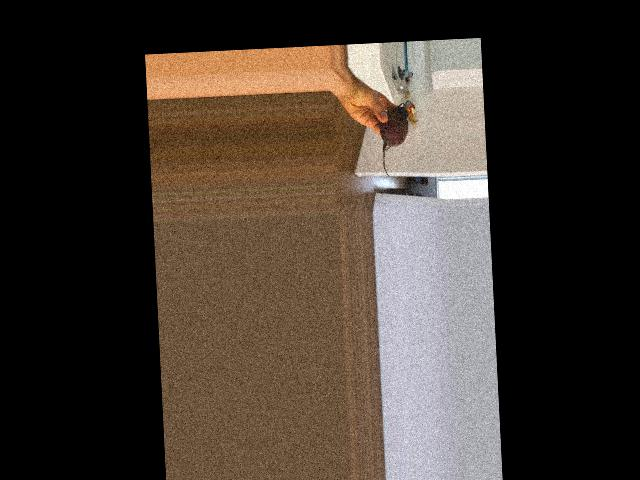beet: (378, 103, 411, 178)
